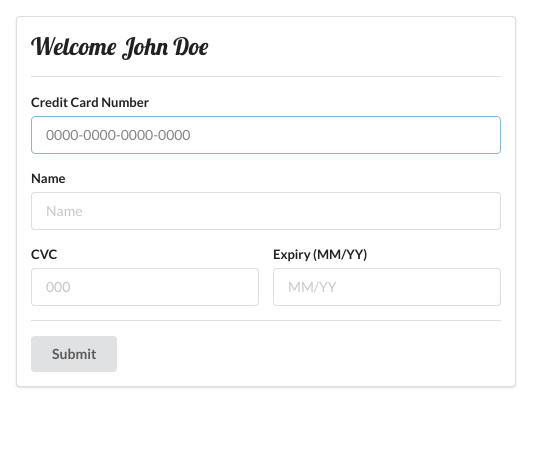
it: submit invalid credit card number
Note: Enter an invalid credit card number
Type "1214154112" into the field with test id "credit-card-number-text-input" at (266,135), box top-left (31, 116), bottom-right (501, 154)
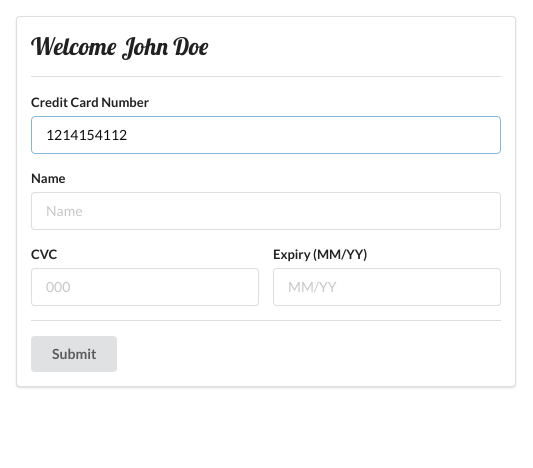
Note: Click submit
Click the button "Submit" at (74,354), box top-left (31, 336), bottom-right (118, 372)
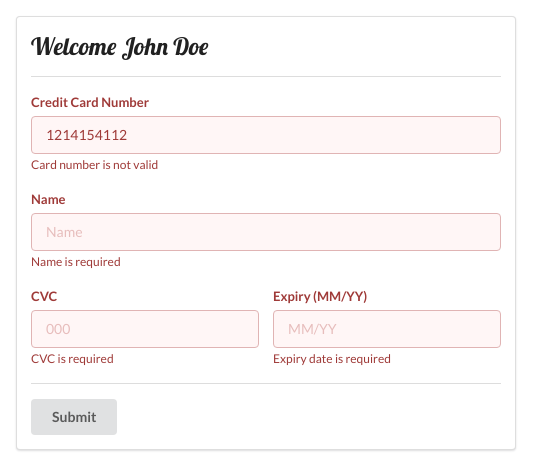
Result: the text "Card number is not valid" is shown at top-left (31, 157), bottom-right (158, 172)
